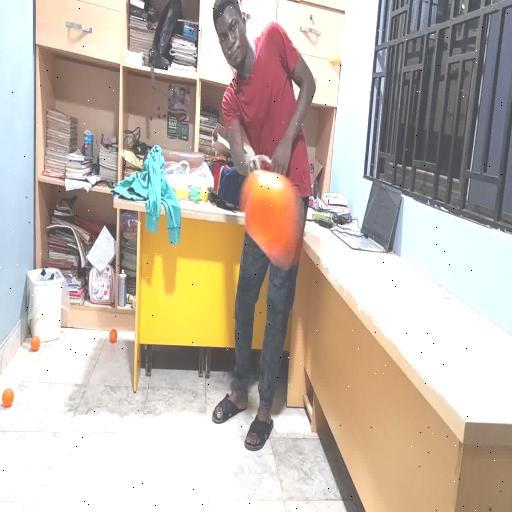plastic-ball: (239, 165, 308, 275)
